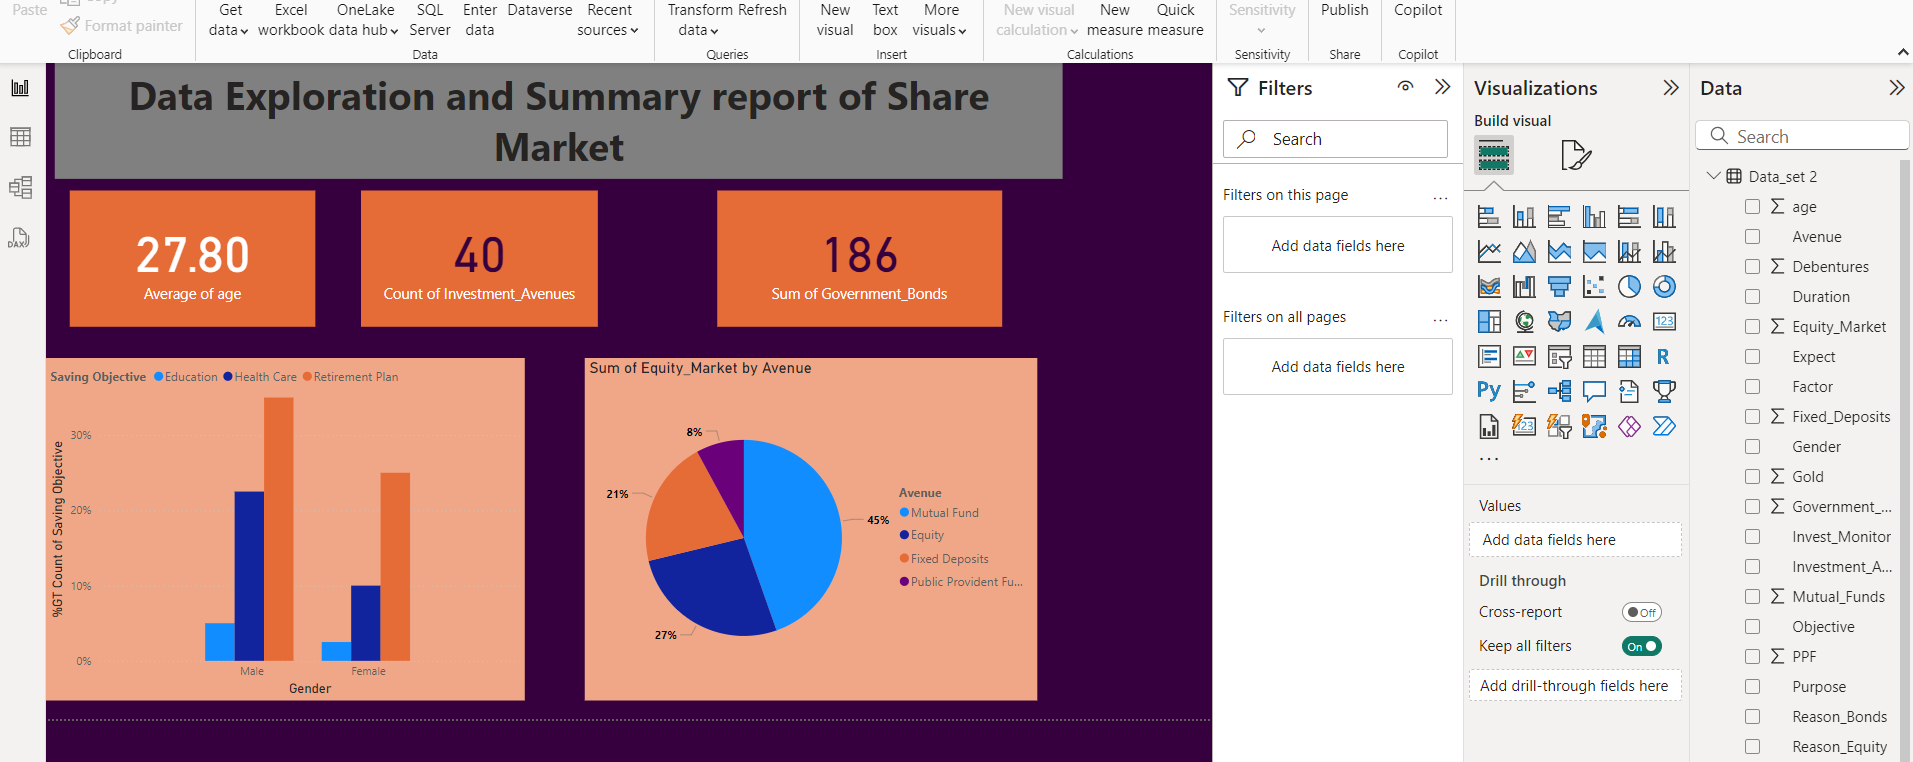

This screenshot's page, from the dashboard's own definition file:
{"tool":"powerbi","page":{"name":"Page 1","canvas":[1280,720],"ordinal":0},"visuals":[{"type":"card","fields":{"Values":["Avg(Data_set 2.age)"]},"box":[25.4,139.7,269.8,149.2],"z":0},{"type":"card","fields":{"Values":["CountNonNull(Data_set 2.Investment_Avenues)"]},"box":[346,139.7,260.3,149.2],"z":1000},{"type":"clusteredColumnChart","fields":{"Category":["Data_set 2.Gender"],"Y":["CountNonNull(Data_set 2.Saving Objective)"],"Series":["Data_set 2.Saving Objective"]},"box":[0,323.8,525.4,376.2],"z":2000},{"type":"pieChart","fields":{"Category":["Data_set 2.Avenue"],"Y":["Sum(Data_set 2.Equity_Market)"]},"box":[592.1,323.8,496.8,376.2],"z":3000},{"type":"textbox","box":[9.5,0,1106.3,127],"z":4000},{"type":"card","fields":{"Values":["Sum(Data_set 2.Government_Bonds)"]},"box":[736.5,139.7,312.7,149.2],"z":5000}]}

Visuals, with their boxes on the page's 1280x720 design canvas (x1, y1, x2, y2). These are canvas units, not pixel positions in the 1913x762 screenshot, which may show the page scaled, cropped or inside an application window:
card - Avg(Data_set 2.age): (25,140,295,289)
card - CountNonNull(Data_set 2.Investment_Avenues): (346,140,606,289)
clusteredColumnChart - Data_set 2.Gender x CountNonNull(Data_set 2.Saving Objective): (0,324,525,700)
pieChart - Data_set 2.Avenue x Sum(Data_set 2.Equity_Market): (592,324,1089,700)
textbox: (10,0,1116,127)
card - Sum(Data_set 2.Government_Bonds): (736,140,1049,289)
